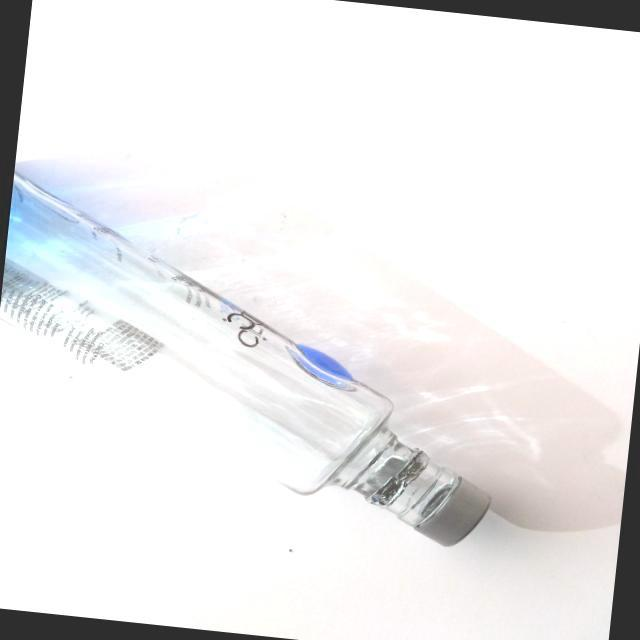glass: (0, 163, 522, 554)
